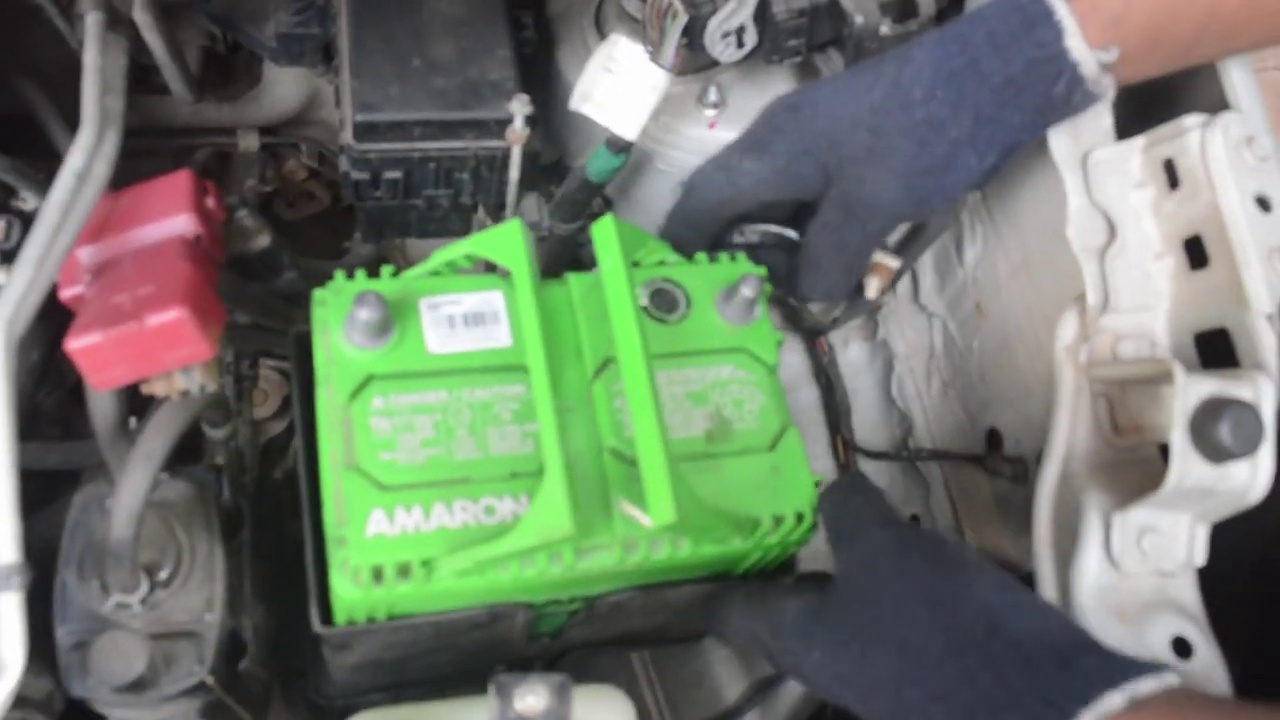battery: (302, 229, 820, 550)
neg_disconnected: (702, 240, 795, 346)
pos_disconnected: (92, 188, 412, 381)
